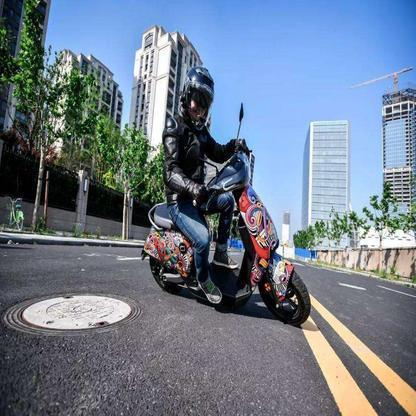target: (142, 66, 314, 328)
